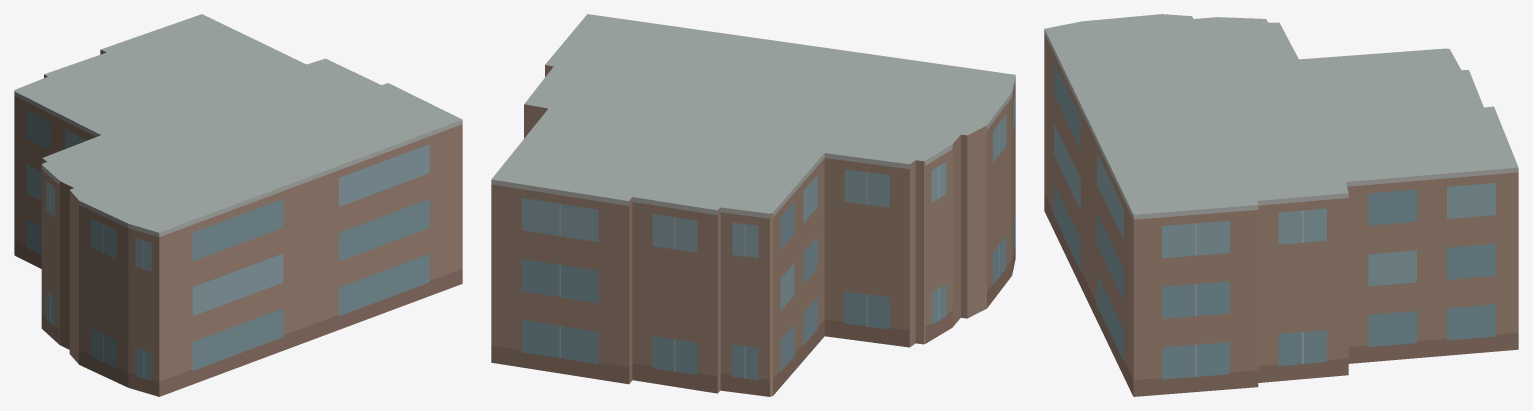
The model's file is survey-upis-32459426.glb.
3 renders of one model, left to right at view 1: azimuth 30°, elevation 25°; view 2: azimuth 150°, elevation 25°; view 3: azimuth 270°, elevation 25°, orthographic. The views are drawn at different scales.
Visible parts, largest first — view 1: survey-upis-32459426.tmp; view 2: survey-upis-32459426.tmp; view 3: survey-upis-32459426.tmp.
Part boxes in pixels (x1,y1,x2,y2): survey-upis-32459426.tmp: (14,14,462,396); survey-upis-32459426.tmp: (491,14,1015,396); survey-upis-32459426.tmp: (1044,14,1518,396).
Size of the model in its own units: 21.65 by 9.15 by 21.6.
